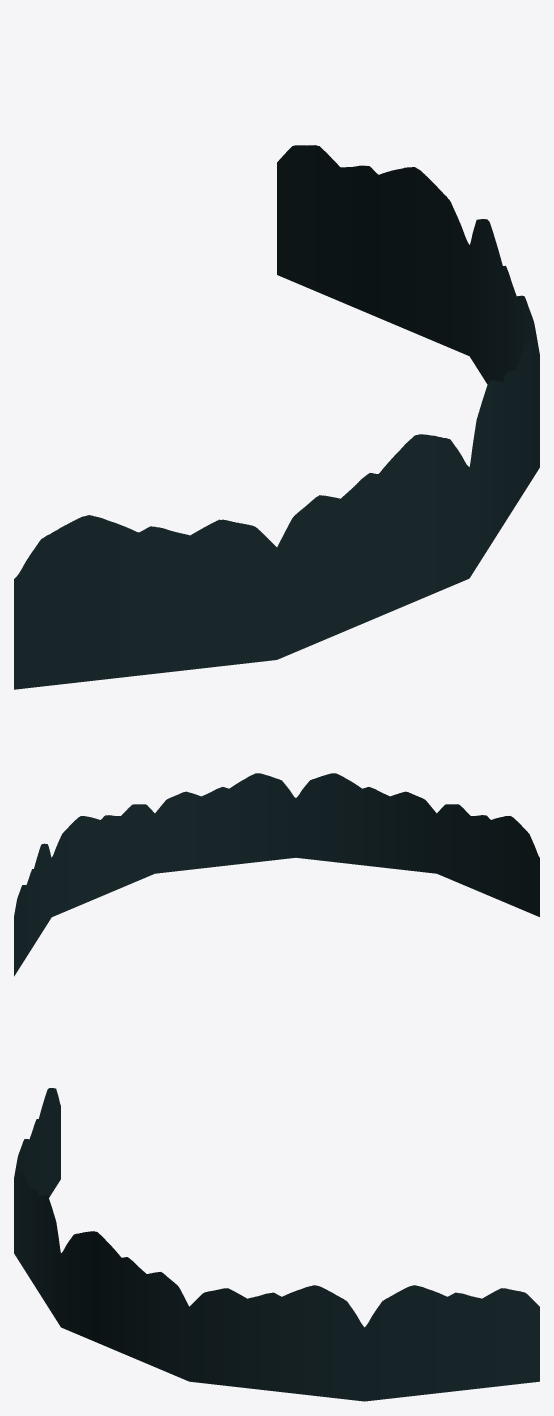
Rendered from QSMY_City_YuanShan02.FBX.
3 views of the same model, one above another, from view 1: azimuth 30°, elevation 25°; view 2: azimuth 150°, elevation 25°; view 3: azimuth 270°, elevation 25° (orthographic). The views are drawn at different scales.
Parts seen in each view (by area): view 1: Object34; view 2: Object34; view 3: Object34.
Boxes of the visible parts, x1,y1,x2,y2 form: Object34: [14, 145, 539, 689]; Object34: [14, 773, 539, 976]; Object34: [14, 1088, 539, 1401].
Size of the model in its own units: 538 by 196 by 538.
Materials: 1 (1 with a texture image).
